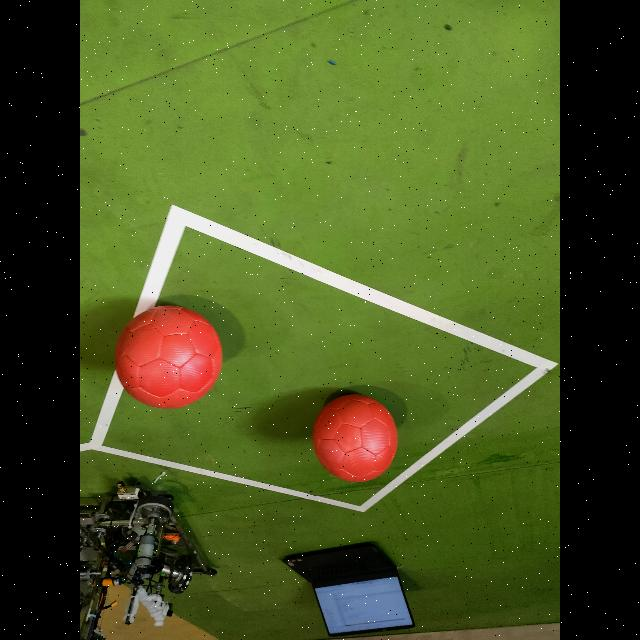R: (115, 306, 222, 408), (313, 394, 397, 482)
